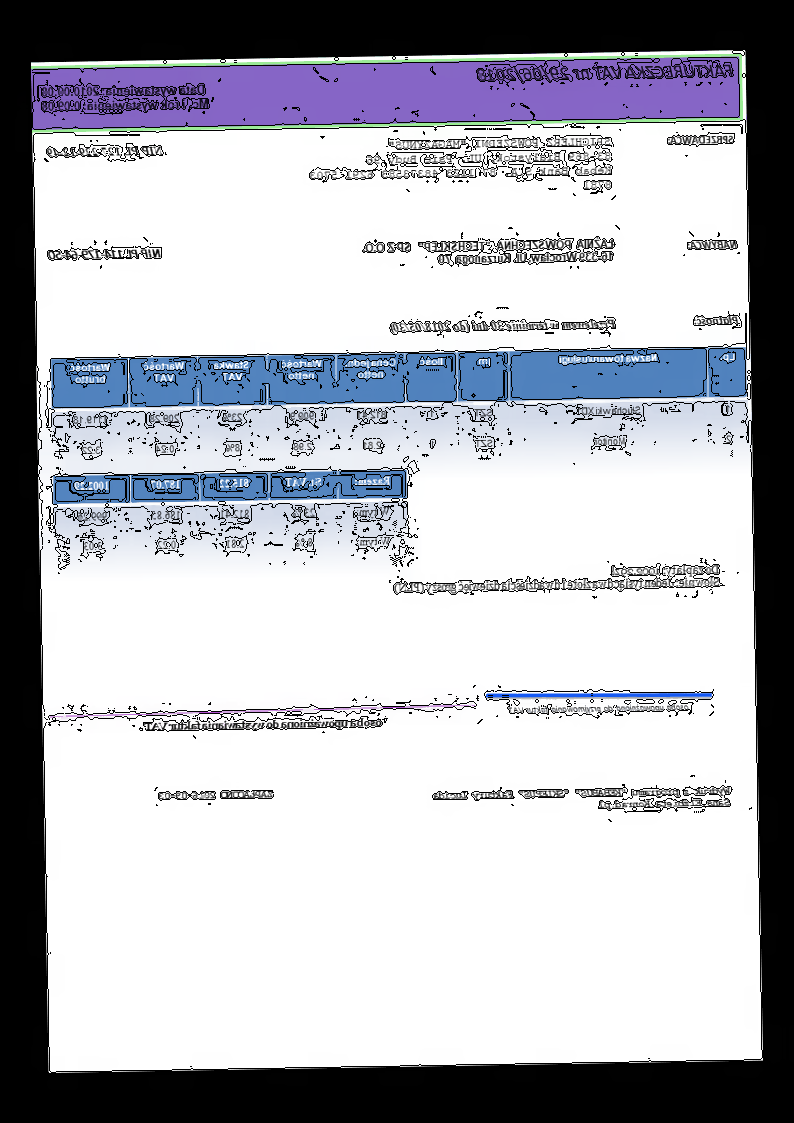Table: (49, 345, 751, 473), (52, 468, 410, 567)
TextBox: (307, 133, 614, 196), (393, 562, 722, 596), (432, 783, 733, 813), (362, 234, 616, 267), (475, 60, 735, 85), (39, 81, 212, 115), (142, 713, 384, 734), (387, 316, 619, 337), (507, 701, 692, 717), (45, 143, 165, 160), (45, 246, 163, 262), (157, 787, 275, 803), (665, 132, 736, 147), (684, 237, 741, 252), (692, 312, 740, 327)
